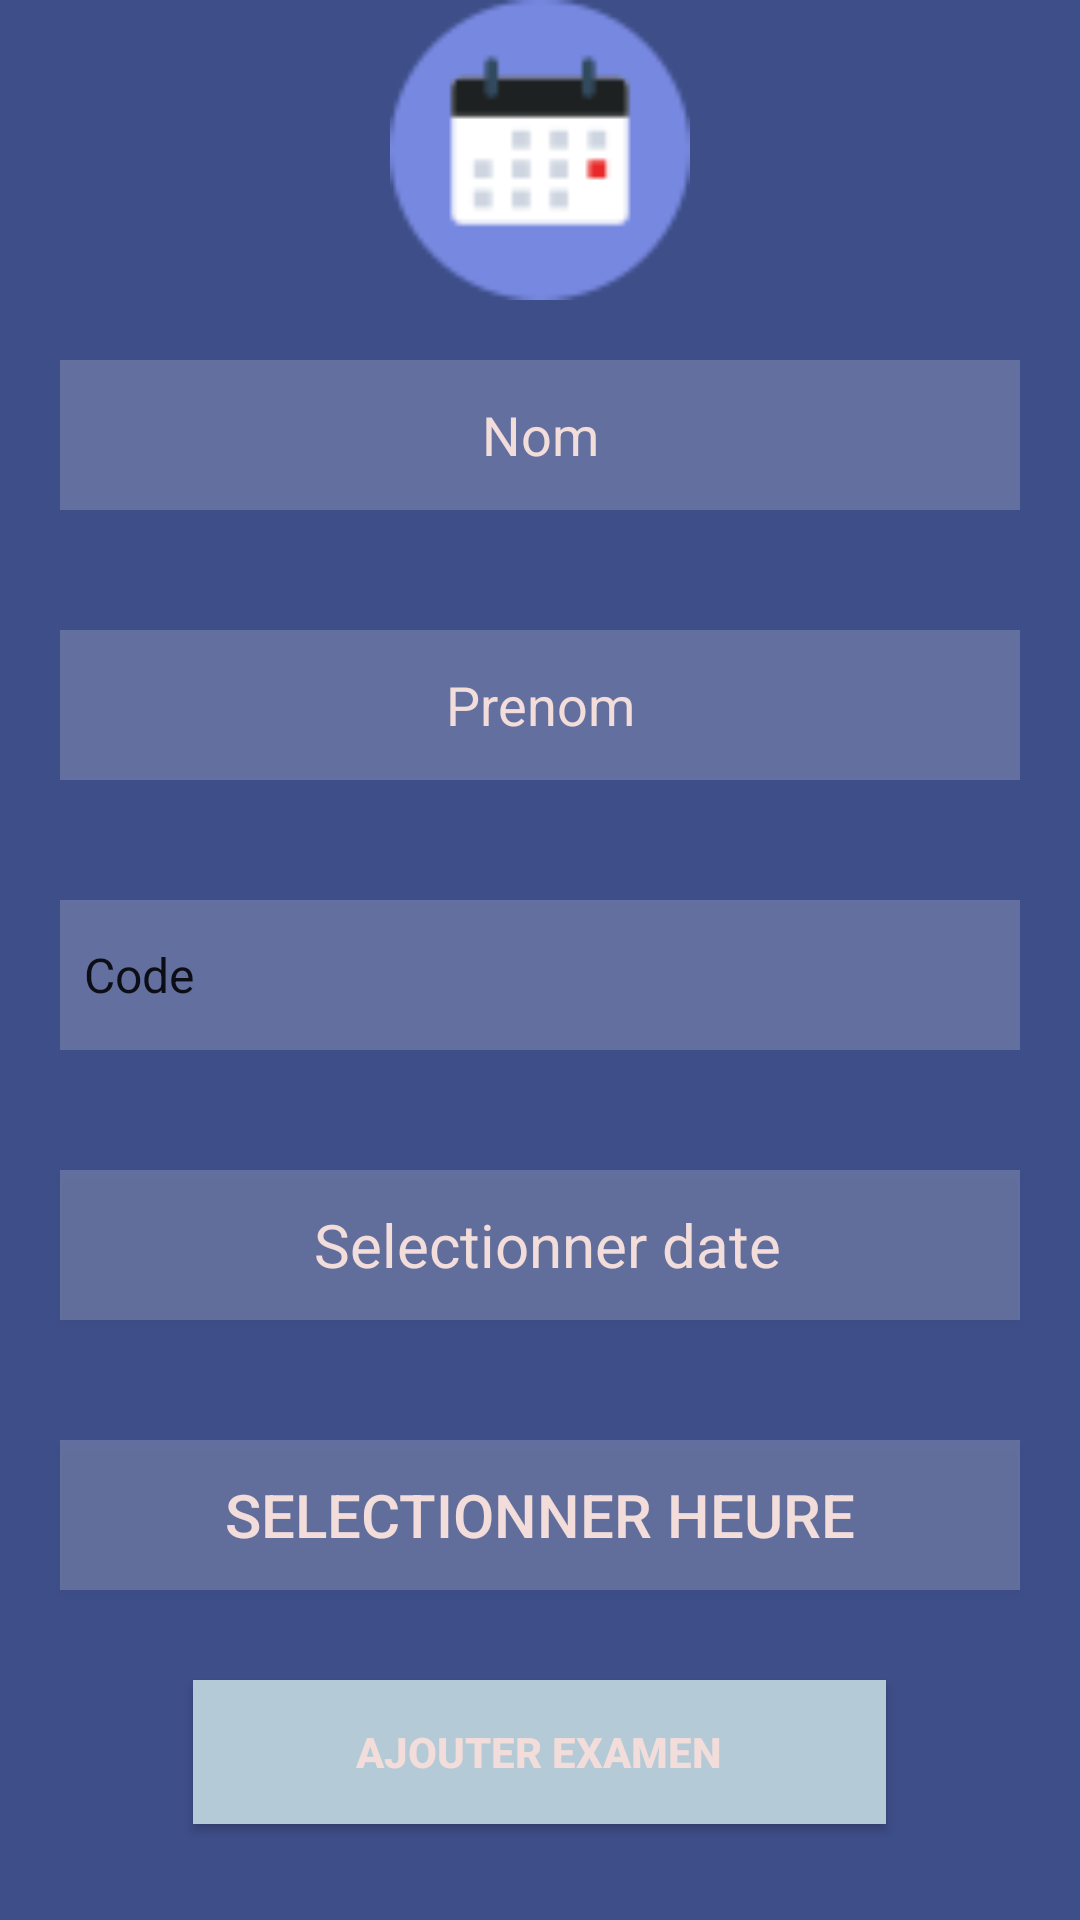

Icon click points for this 1080×1920 phone screenshot, format (x=x, y=y):
calendar: (x=540, y=150)
